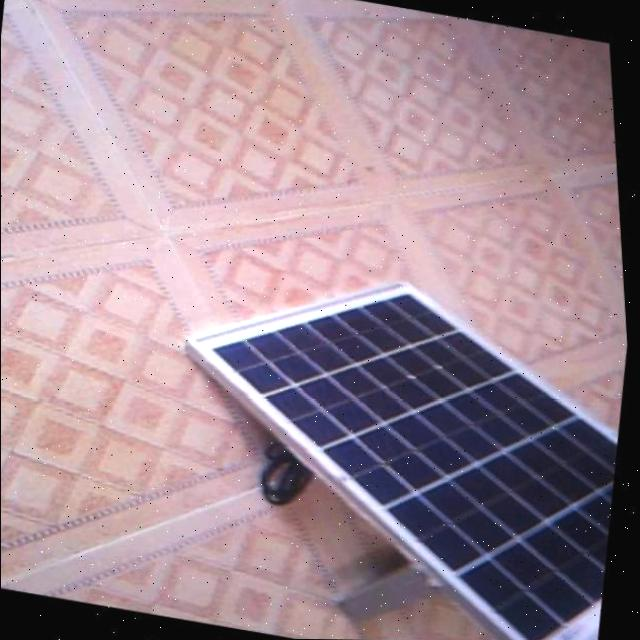Normal Solar Panel: (147, 249, 640, 640)
